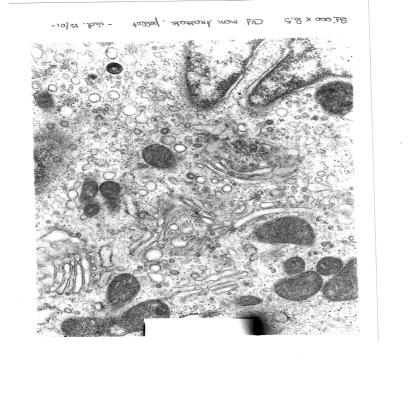mitochondria: (61, 300, 171, 336), (252, 214, 318, 246), (322, 258, 359, 302), (273, 271, 323, 302), (105, 270, 141, 310), (316, 80, 353, 115), (138, 142, 178, 169), (314, 255, 346, 276), (76, 178, 99, 202), (99, 180, 122, 201), (34, 91, 57, 112), (281, 256, 307, 274), (236, 292, 265, 307), (81, 203, 103, 217)
